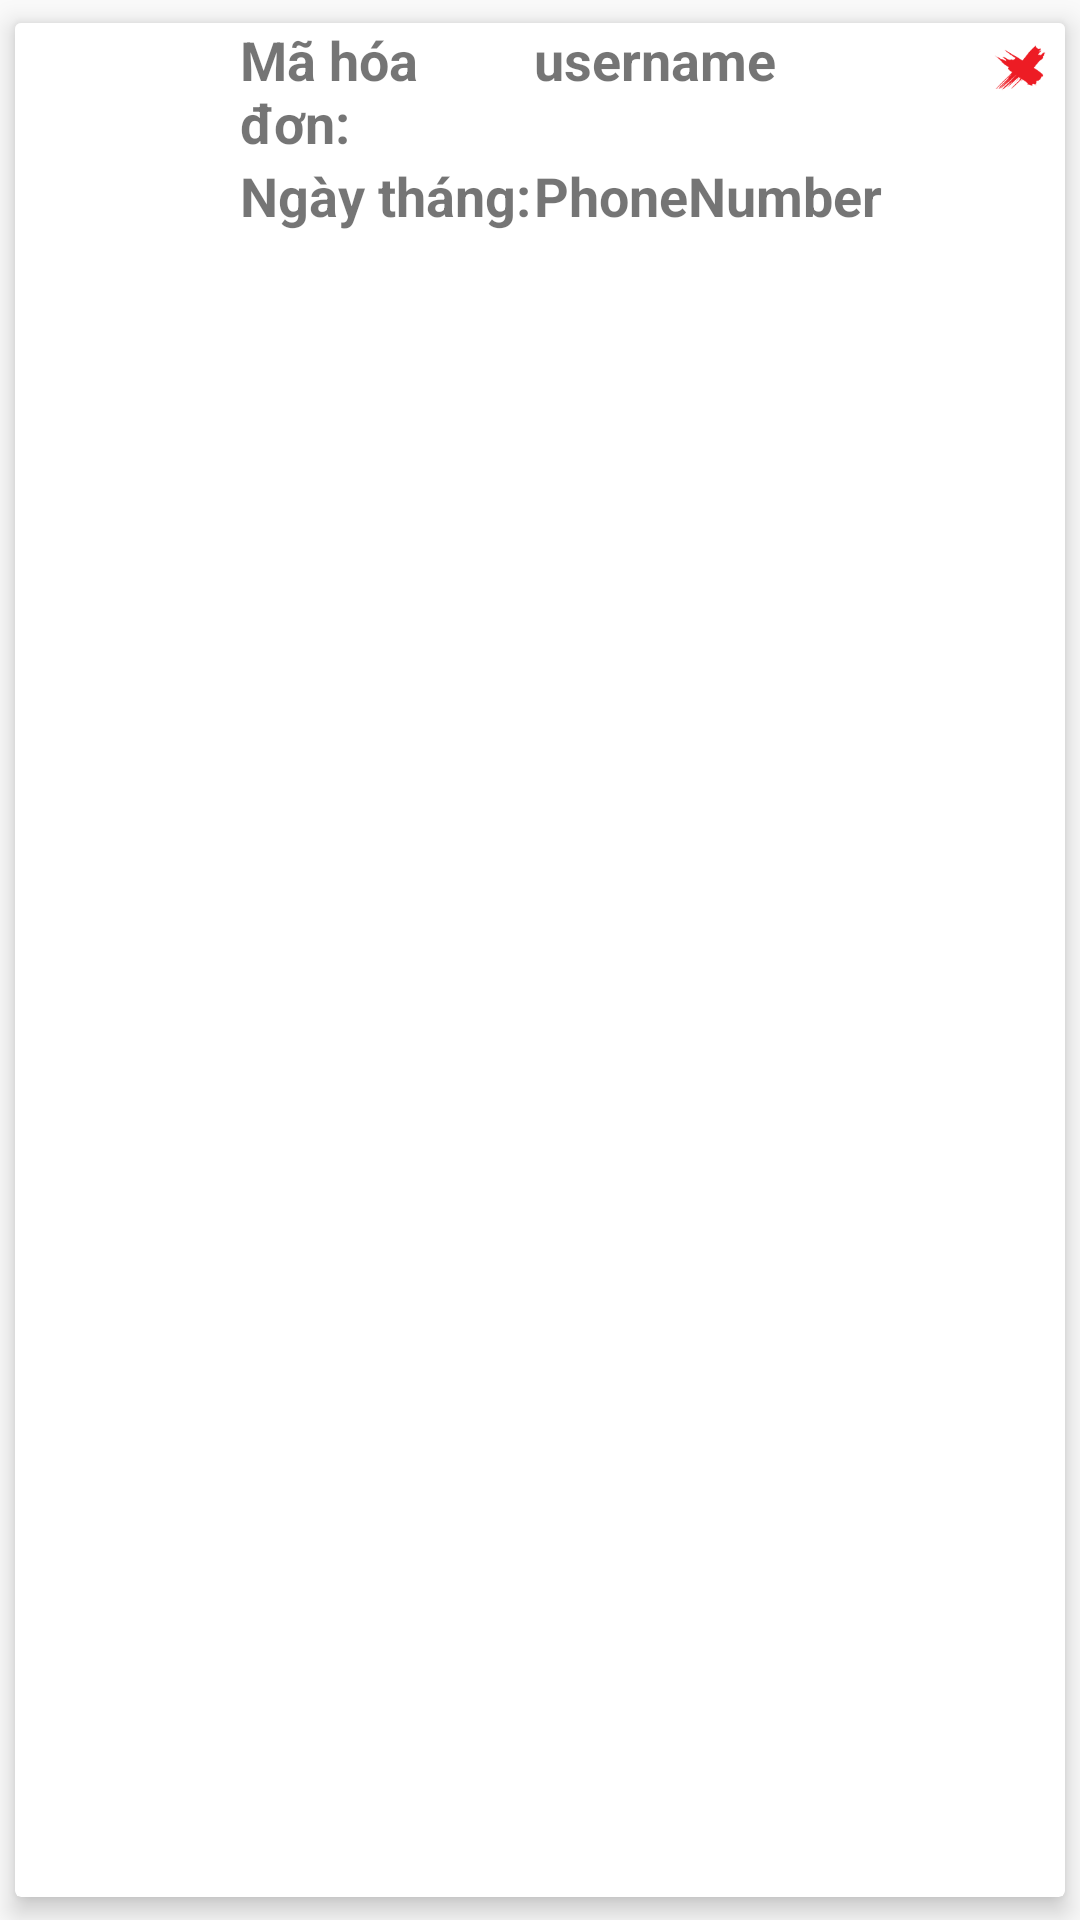

Named icons in this screenshot (1080×1920) and their bounding boxes, Rect(x1, y1, x2, y2):
delete: Rect(996, 45, 1045, 90)
